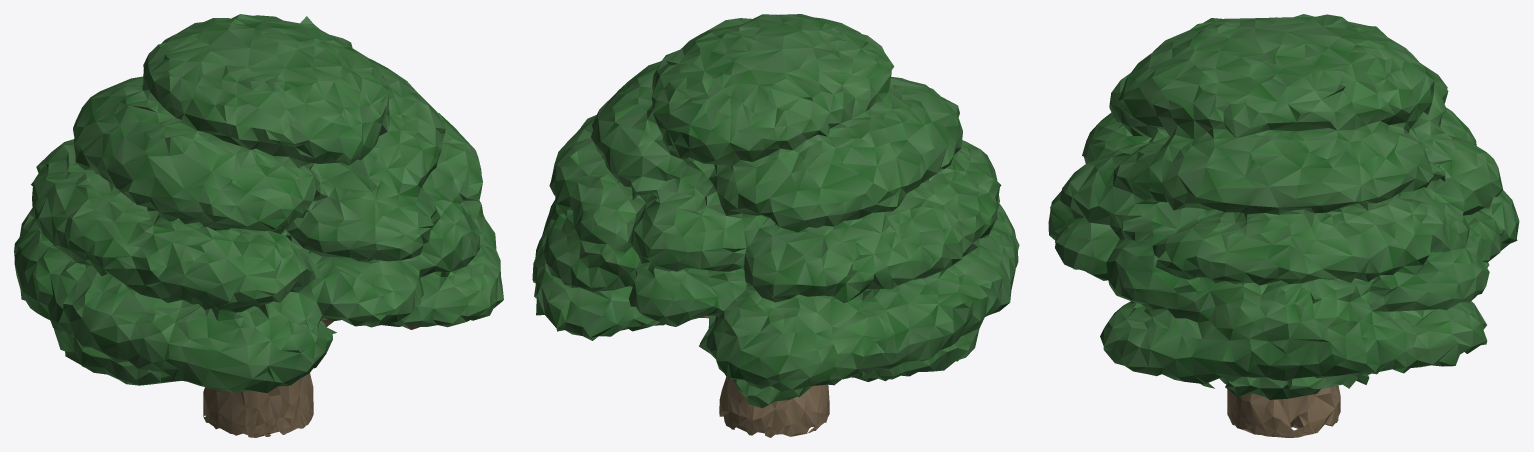
The model's file is yew_tree.glb.
3 renders of one model, left to right at view 1: azimuth 30°, elevation 25°; view 2: azimuth 150°, elevation 25°; view 3: azimuth 270°, elevation 25°, orthographic. The views are drawn at different scales.
Parts seen in each view (by area): view 1: world; view 2: world; view 3: world.
Boxes of the visible parts, x1,y1,x2,y2 form: world: [14, 14, 503, 437]; world: [532, 14, 1019, 437]; world: [1048, 14, 1519, 437].
Size of the model in its own units: 5.67 by 4.8 by 5.4.
